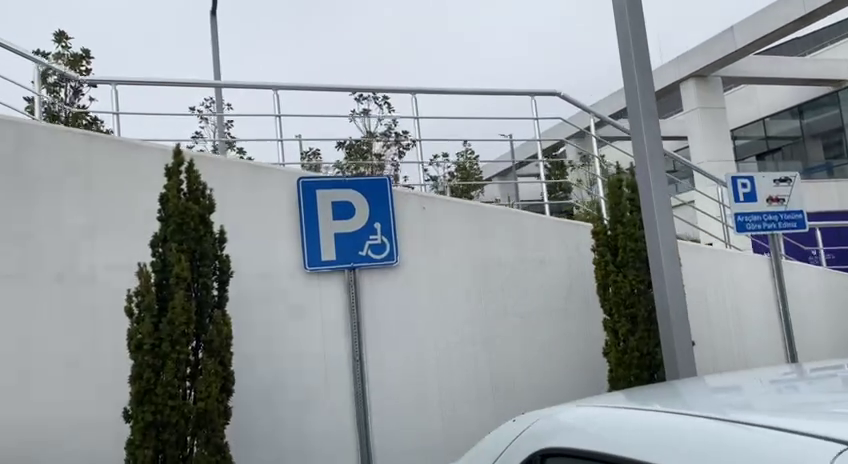parking: (293, 173, 398, 271), (729, 173, 759, 206)
